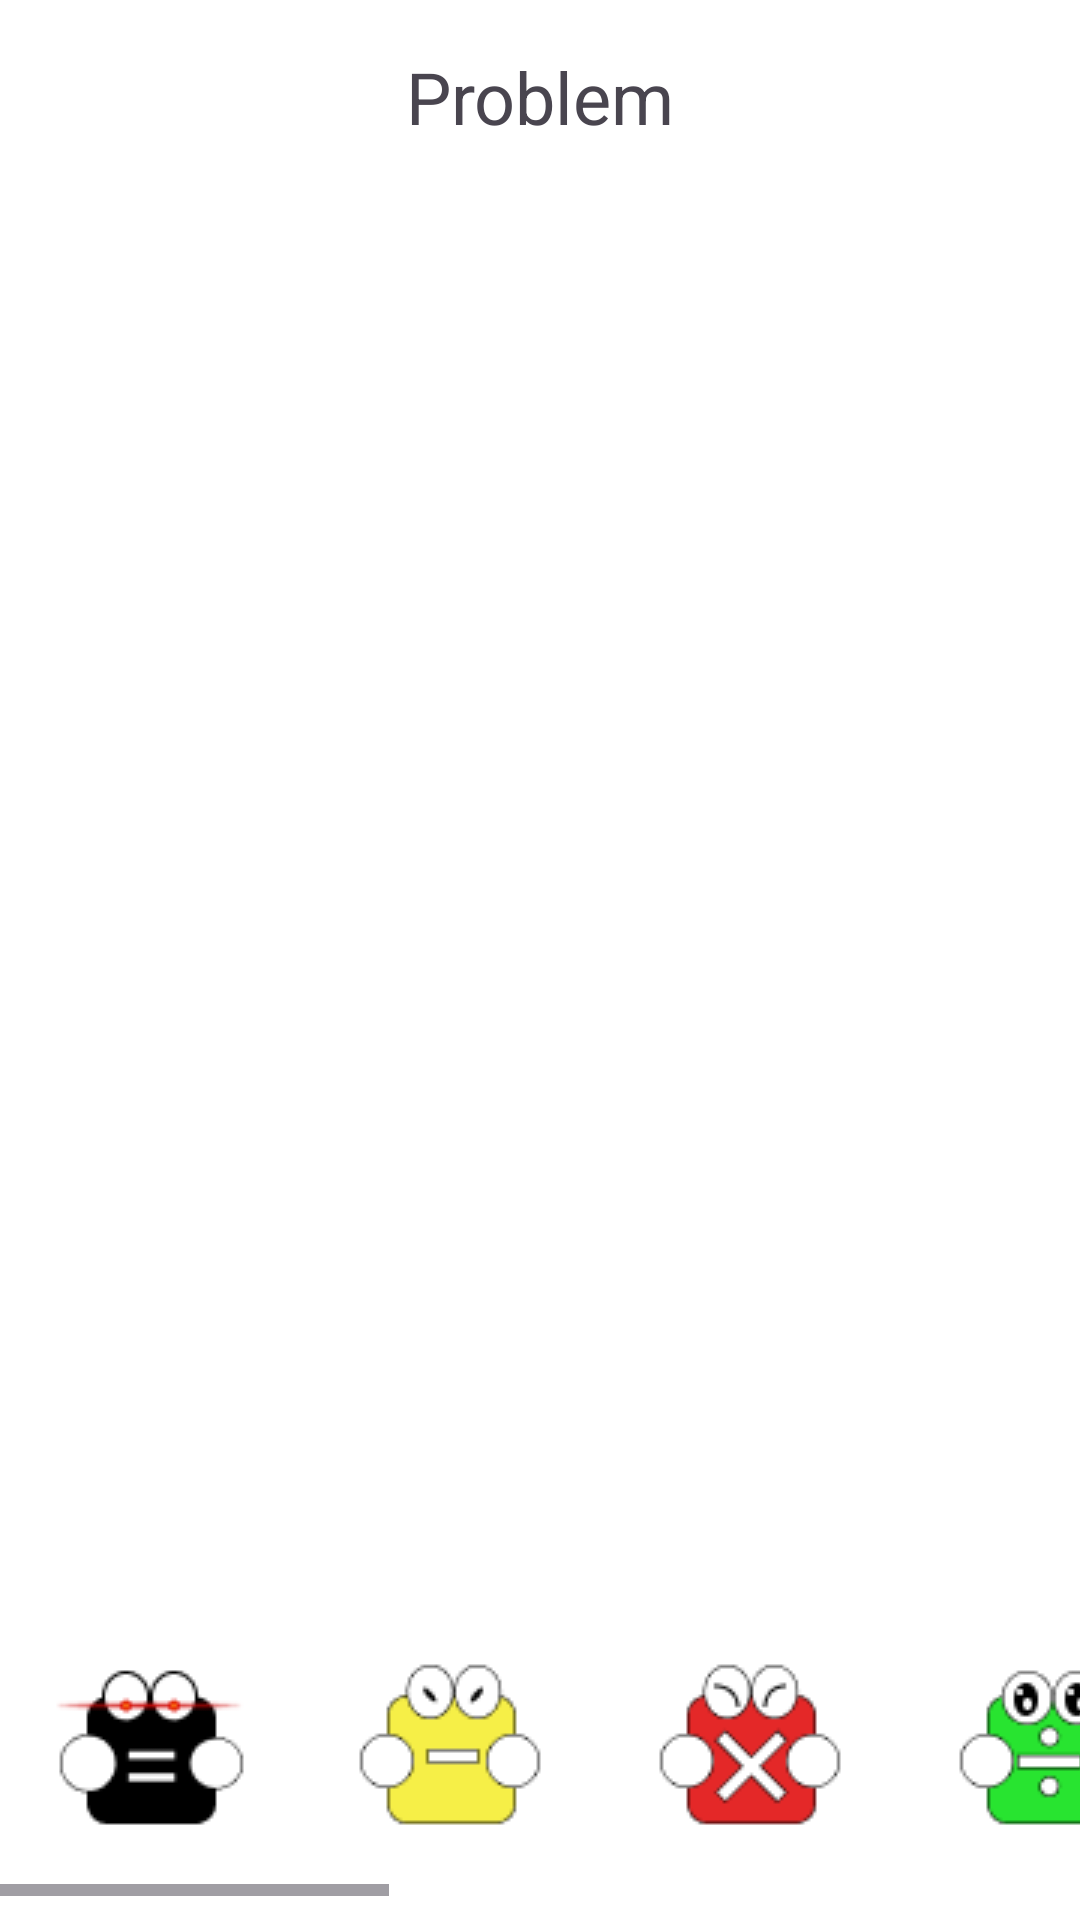

Icons on this 1080 × 1920 Android screen, each with its box as (x1, y1, x2, y2):
equal: (59, 1670, 244, 1825)
minus: (359, 1664, 541, 1825)
multiply: (659, 1664, 841, 1825)
